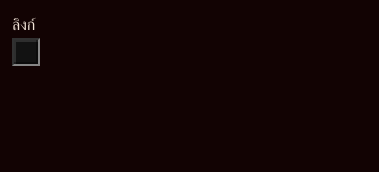
it: UrlField › flags an unsafe URL as the owner types and clears once it is fixed
Type "javascript:alert(1)" into the field labelled "ลิงก์" at (26, 52), box [12,38,40,66]
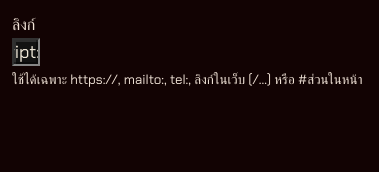
expect the message reads "ใช้ได้เฉพาะ https://, mailto:, tel:, ลิงก์ในเว็บ (/…) หรือ #ส่วนในหน้า": met, box [12,71,363,88]
Replace the text in the field labelled "ลิงก์" with "https://github.com/pho0m" at (26, 52), box [12,38,40,66]
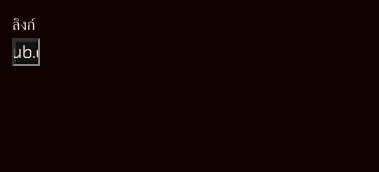
expect the message "ใช้ได้เฉพาะ https://, mailto:, tel:, ลิงก์ในเว็บ (/…) หรือ #ส่วนในหน้า" is gone: met
